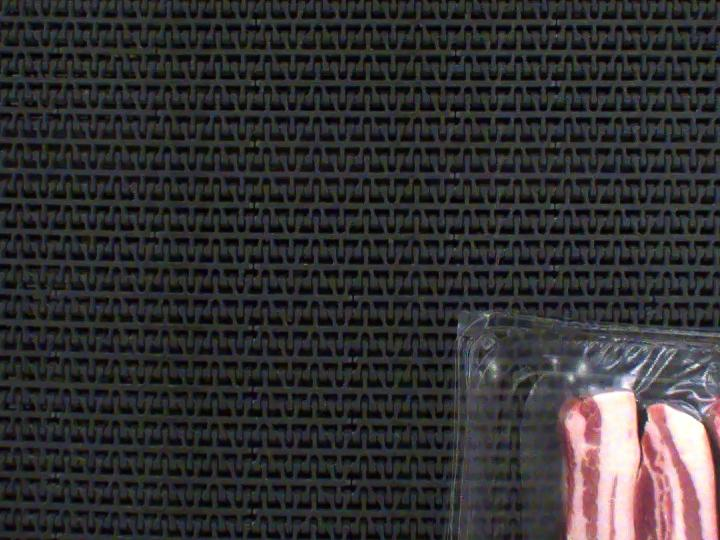unsealed: (517, 322, 720, 540)
